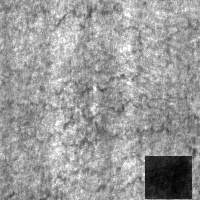crazing: (9, 72, 200, 149), (31, 111, 163, 192), (48, 1, 199, 61)
patches: (145, 156, 192, 199)
